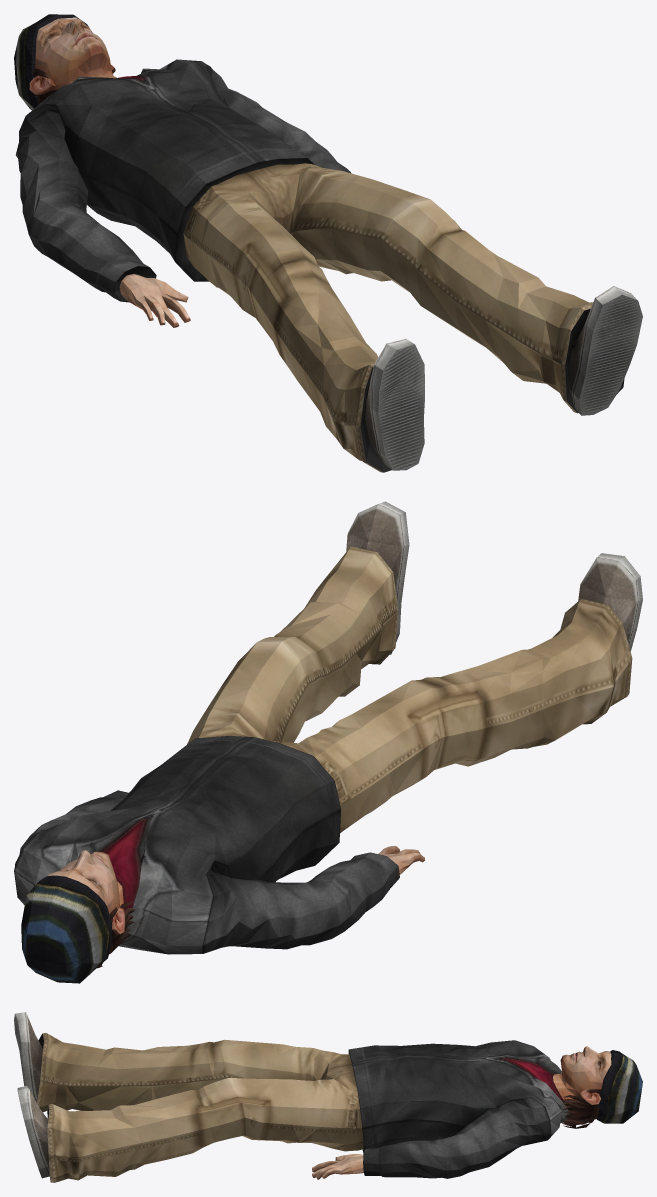
The model's file is sweethome3d-reallusion-lying-down-male-12.glb.
The picture shows the model from 3 angles, top to bottom: view 1: azimuth 30°, elevation 25°; view 2: azimuth 150°, elevation 25°; view 3: azimuth 270°, elevation 25°; orthographic projection. The views are drawn at different scales.
Visible parts, largest first — view 1: obj1221Object04; view 2: obj1221Object04; view 3: obj1221Object04.
Part boxes in pixels (bbox=[...]): obj1221Object04: bbox=[14, 14, 642, 472]; obj1221Object04: bbox=[14, 501, 642, 983]; obj1221Object04: bbox=[14, 1012, 642, 1182].
Size of the model in its own units: 72.29 by 30.97 by 189.
4 materials, 4 textured.
